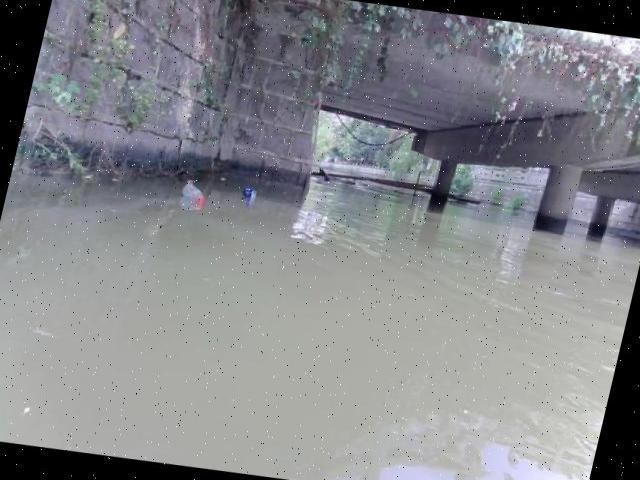Waste: (177, 174, 208, 213), (238, 182, 266, 211)
